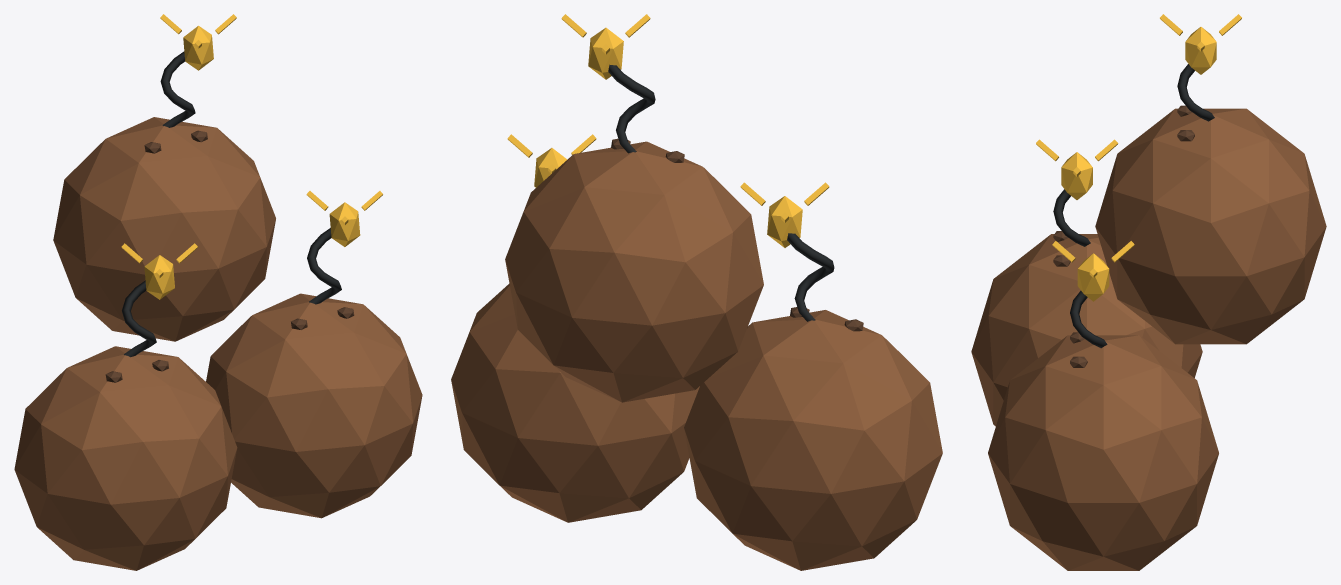
File: coconut-bombs.glb
3 views of the same model, side by side, from view 1: azimuth 30°, elevation 25°; view 2: azimuth 150°, elevation 25°; view 3: azimuth 270°, elevation 25° (orthographic). The views are drawn at different scales.
Parts seen in each view (by area): view 1: Cartoon coconut bomb 1, Cartoon coconut bomb 3, Cartoon coconut bomb 2, Tiny coconut spark, Tiny coconut spark.001, Tiny coconut spark.002, Short curly coconut fuse.001, Short curly coconut fuse, Short curly coconut fuse.002; view 2: Cartoon coconut bomb 3, Cartoon coconut bomb 1, Cartoon coconut bomb 2, Short curly coconut fuse, Short curly coconut fuse.002, Tiny coconut spark.002, Tiny coconut spark, Tiny coconut spark.001; view 3: Cartoon coconut bomb 2, Cartoon coconut bomb 3, Cartoon coconut bomb 1, Tiny coconut spark.001, Tiny coconut spark, Tiny coconut spark.002, Short curly coconut fuse.001, Short curly coconut fuse.002, Short curly coconut fuse.
Boxes of the visible parts, x1,y1,x2,y2 form: Cartoon coconut bomb 1: [14, 346, 237, 570]; Cartoon coconut bomb 3: [53, 117, 275, 341]; Cartoon coconut bomb 2: [206, 293, 422, 518]; Tiny coconut spark: [144, 255, 174, 299]; Tiny coconut spark.001: [329, 202, 360, 246]; Tiny coconut spark.002: [183, 25, 213, 70]; Short curly coconut fuse.001: [307, 228, 341, 304]; Short curly coconut fuse: [122, 280, 156, 357]; Short curly coconut fuse.002: [160, 51, 195, 127]; Cartoon coconut bomb 3: [505, 141, 763, 402]; Cartoon coconut bomb 1: [684, 310, 942, 570]; Cartoon coconut bomb 2: [451, 283, 699, 522]; Short curly coconut fuse: [787, 233, 834, 321]; Short curly coconut fuse.002: [608, 64, 655, 153]; Tiny coconut spark.002: [588, 27, 623, 79]; Tiny coconut spark: [767, 196, 802, 247]; Tiny coconut spark.001: [534, 148, 567, 187]; Cartoon coconut bomb 2: [988, 335, 1218, 570]; Cartoon coconut bomb 3: [1095, 108, 1326, 344]; Cartoon coconut bomb 1: [971, 234, 1202, 426]; Tiny coconut spark.001: [1077, 253, 1109, 301]; Tiny coconut spark: [1061, 152, 1092, 199]; Tiny coconut spark.002: [1185, 27, 1216, 74]; Short curly coconut fuse.001: [1070, 290, 1107, 348]; Short curly coconut fuse.002: [1177, 64, 1214, 121]; Short curly coconut fuse: [1053, 189, 1090, 246].
Bounding box in the file's own units: 1.15 × 1.35 × 0.86.
